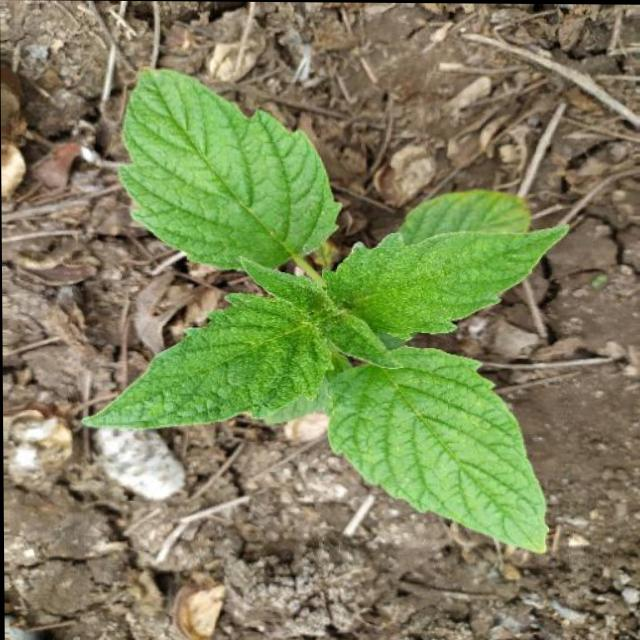crop: (80, 68, 569, 567)
